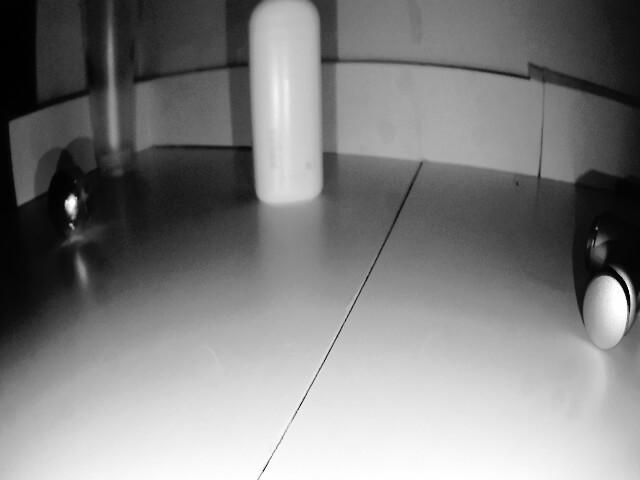silver: (40, 155, 91, 231)
